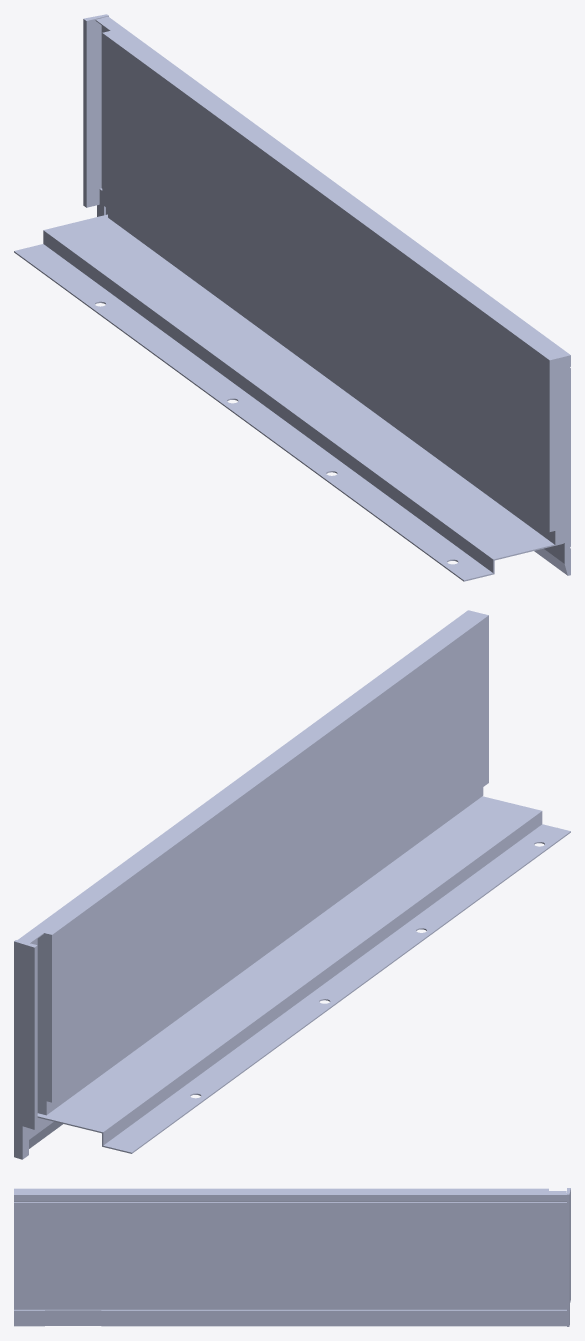
The model's file is lg-kava-K500-m.glb.
3 views of the same model, one above another, from view 1: azimuth 30°, elevation 25°; view 2: azimuth 150°, elevation 25°; view 3: azimuth 270°, elevation 25° (orthographic). The views are drawn at different scales.
Visible parts, largest first — view 1: 43010402; view 2: 43010402; view 3: 43010402.
Boxes of the visible parts, x1,y1,x2,y2 form: 43010402: (14, 14, 570, 581); 43010402: (14, 610, 570, 1159); 43010402: (14, 1188, 570, 1326).
Bounding box in the file's own units: 0.0653 × 0.1292 × 0.4935.
